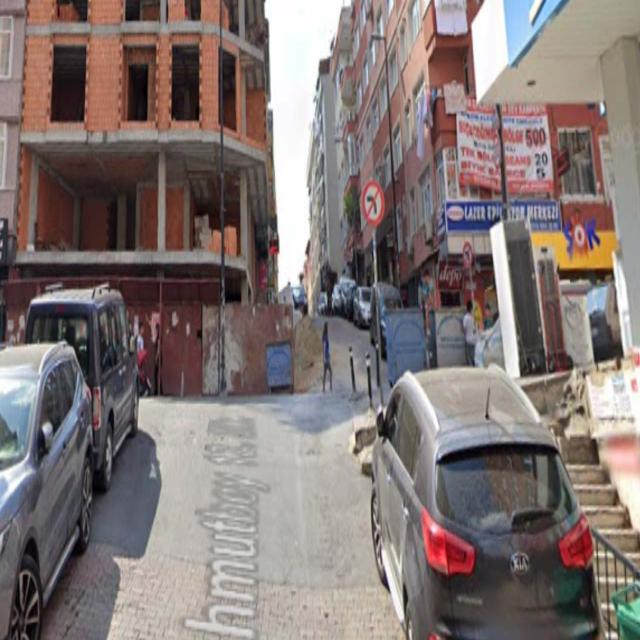soladonulmez: (361, 180, 384, 222), (464, 240, 473, 268)
